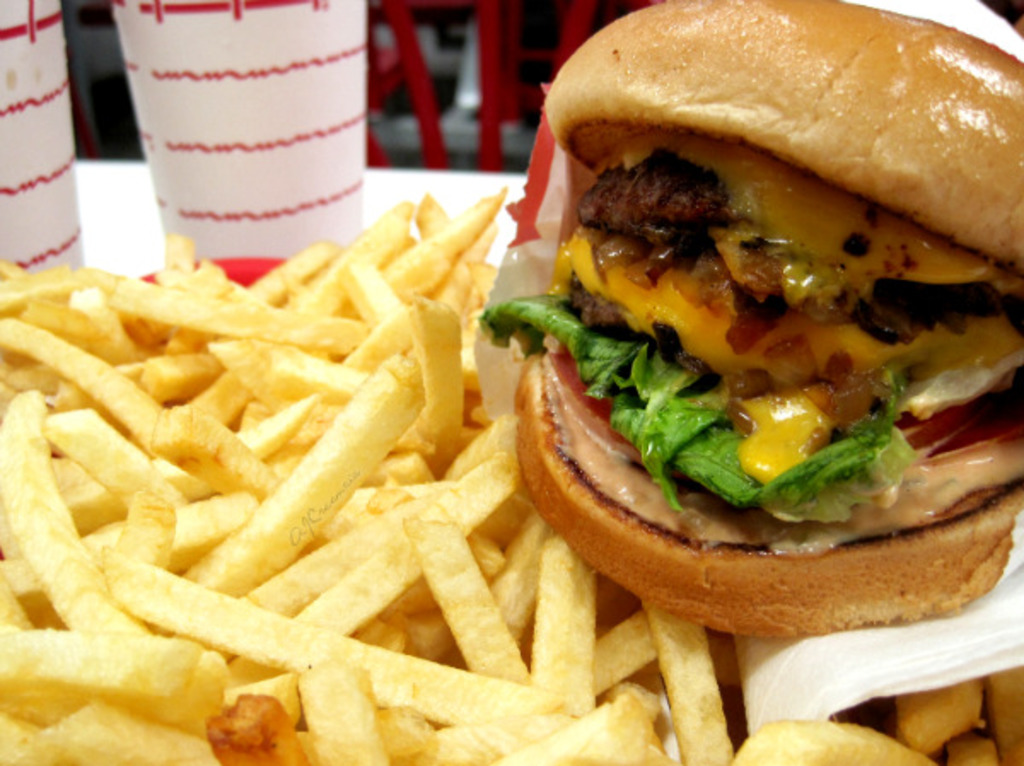French fries: (0, 180, 1022, 764)
